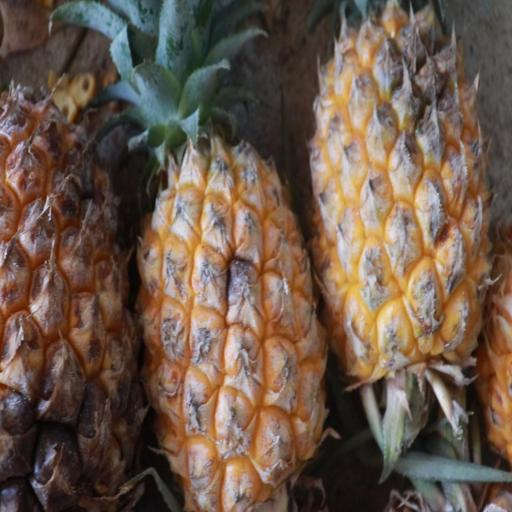Pineapple - v8 v1: (133, 50, 332, 512), (306, 0, 494, 384), (0, 59, 159, 511)
